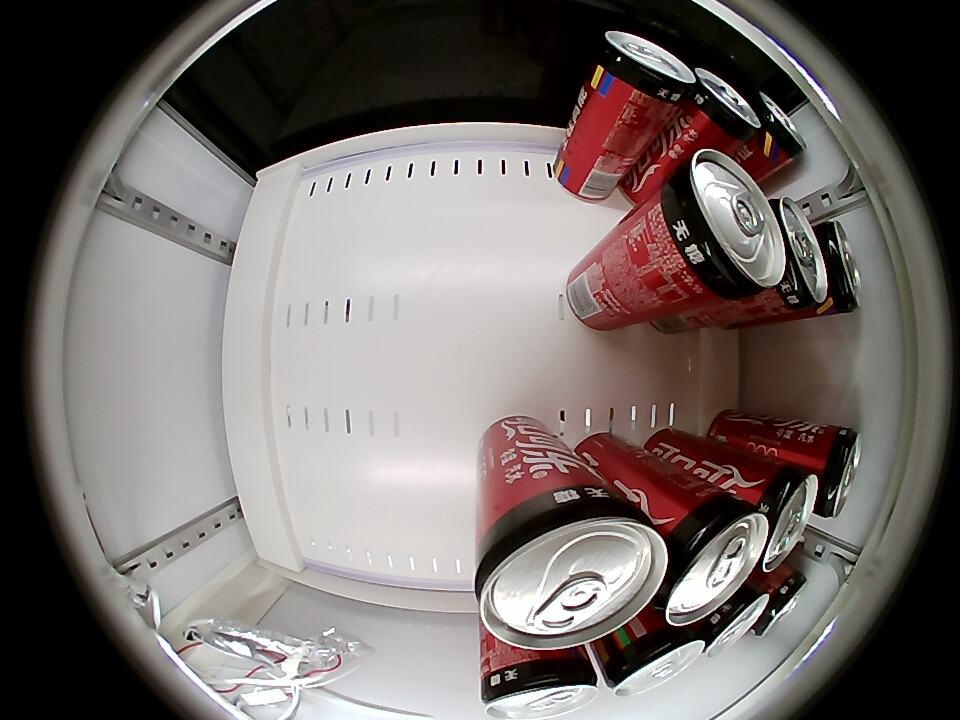lingdukele: (476, 482, 669, 653), (654, 149, 784, 310), (655, 485, 769, 626), (590, 31, 696, 109), (744, 463, 817, 571), (604, 621, 707, 697), (482, 653, 599, 719), (772, 195, 828, 310), (680, 68, 760, 147), (802, 425, 862, 517), (701, 589, 769, 658), (815, 220, 862, 316), (749, 93, 806, 170), (752, 565, 808, 637)
